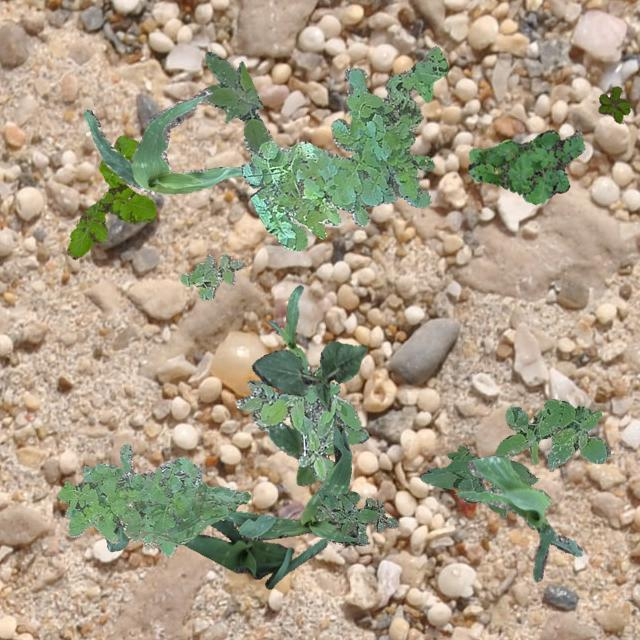crop: (82, 88, 242, 194), (221, 424, 361, 544), (454, 454, 582, 580), (182, 518, 326, 588), (250, 340, 366, 410), (266, 284, 310, 374), (82, 464, 128, 550)
weed: (240, 46, 448, 250), (56, 442, 250, 556), (234, 366, 360, 480), (64, 134, 154, 258), (466, 128, 584, 204), (419, 444, 536, 518), (494, 398, 610, 470), (202, 51, 270, 156), (258, 420, 368, 484), (316, 486, 396, 544), (180, 252, 244, 298), (598, 85, 630, 122)
